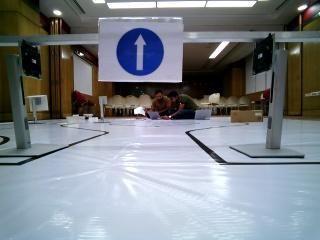straight: (99, 18, 178, 78)
